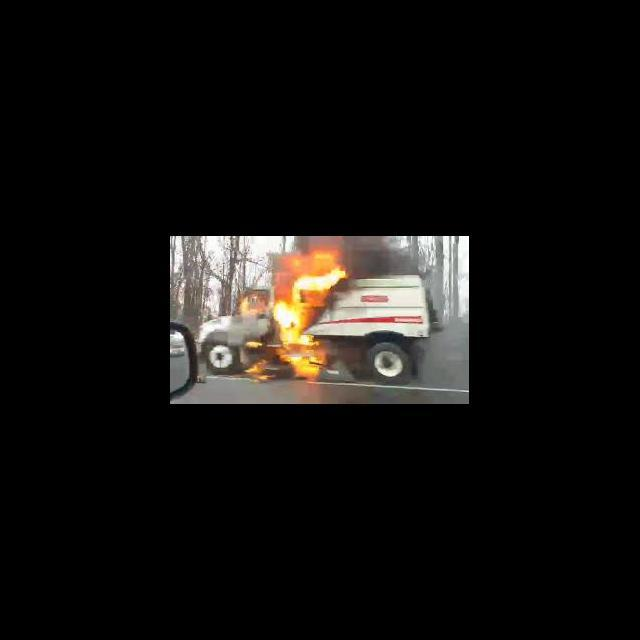Fire: (274, 245, 346, 384), (243, 358, 269, 380), (238, 297, 266, 314), (244, 341, 263, 349)
